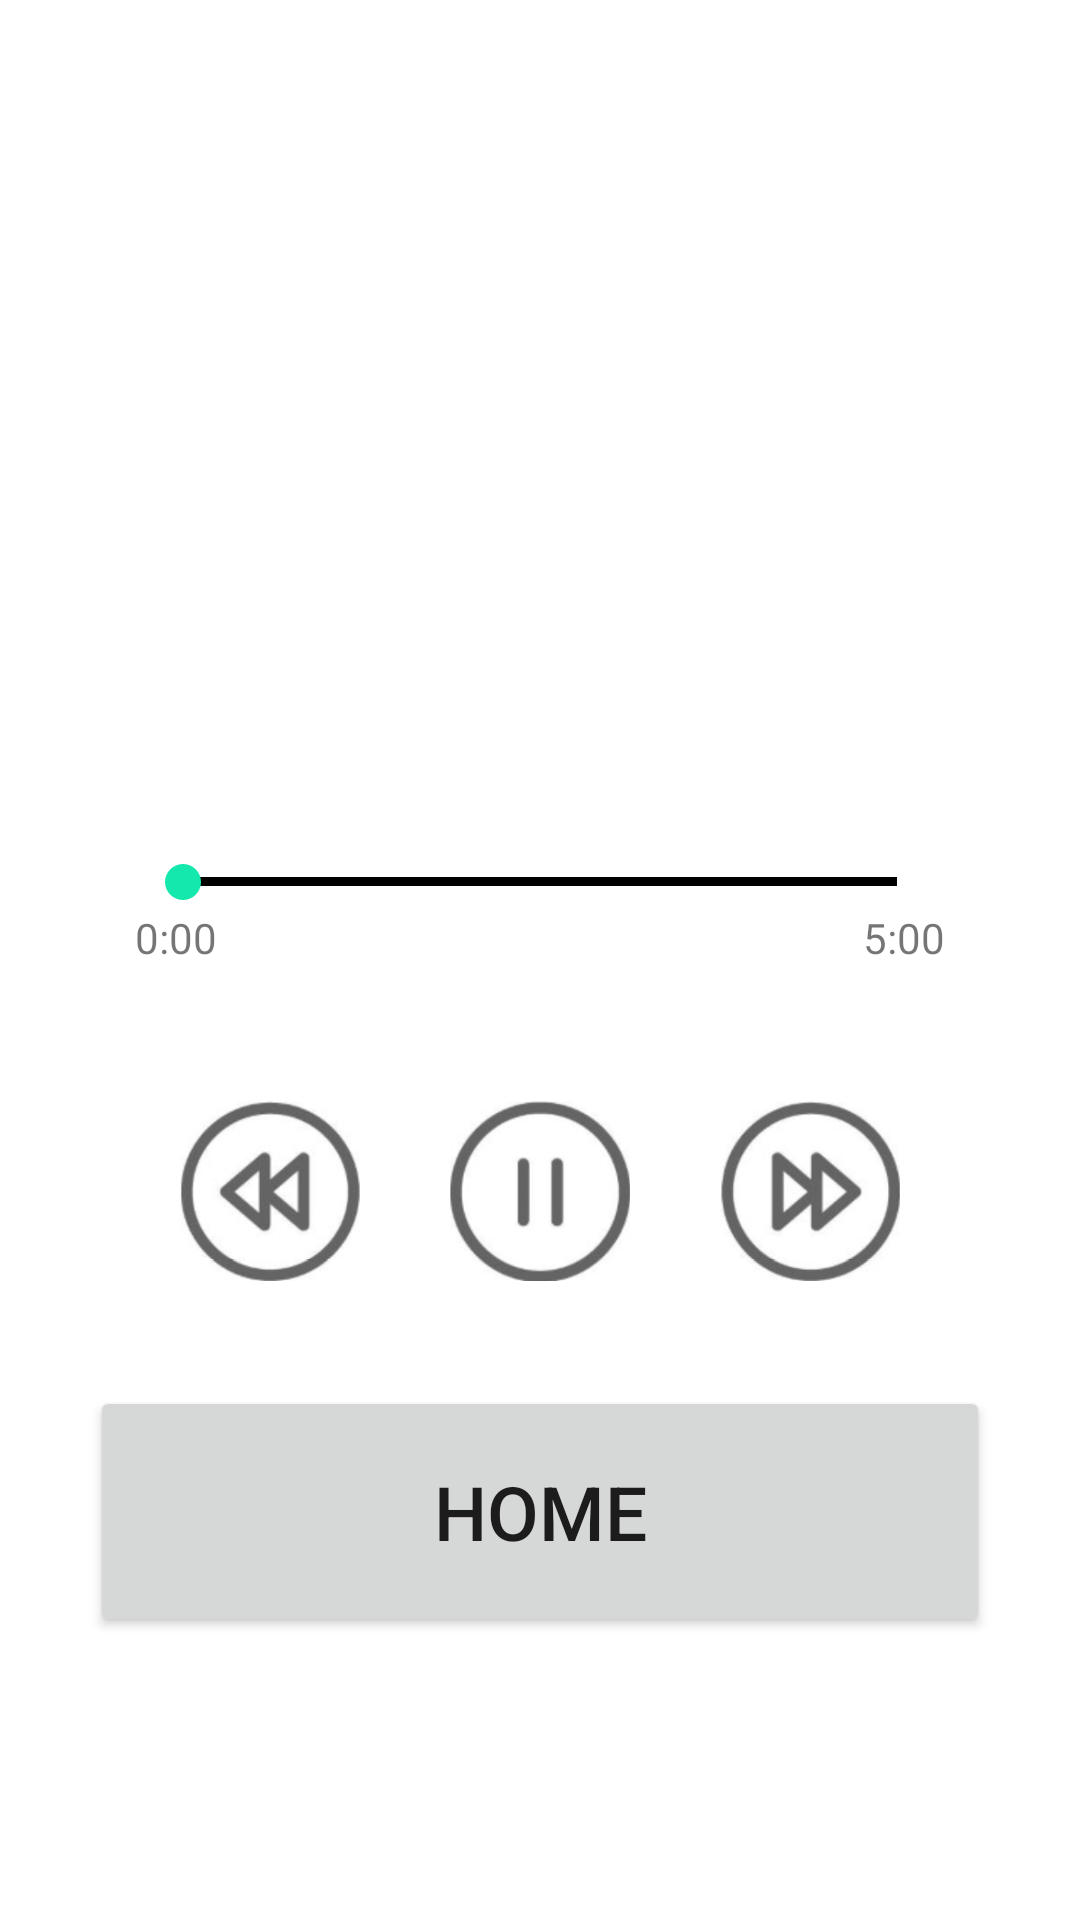

Named icons in this screenshot (1080×1920) and their centers, [x,y]:
back: [270,1191]
forward: [810,1191]
pause: [540,1191]
